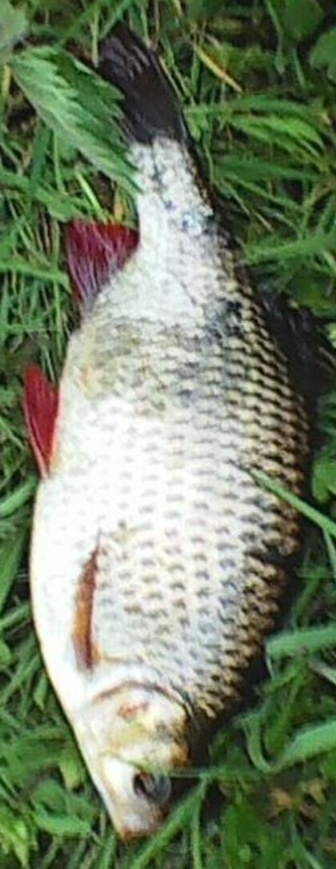Scardinius erythrophthalmus: (20, 20, 316, 849)
